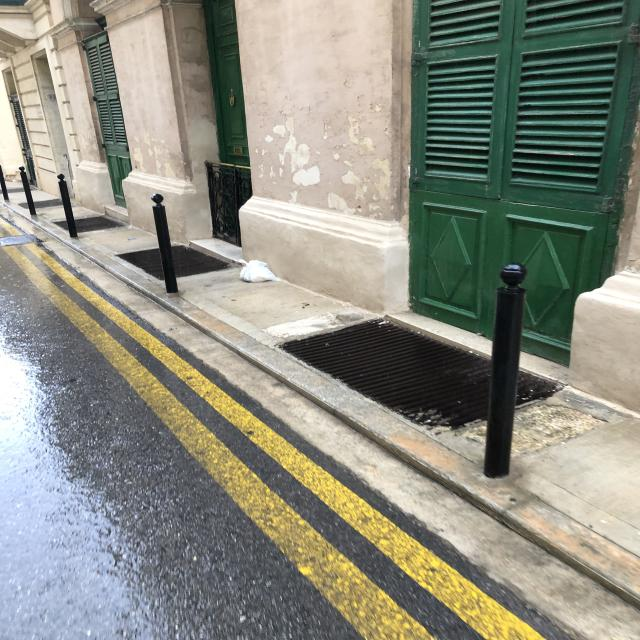Organic Waste -White Bag-: (242, 260, 282, 287)
